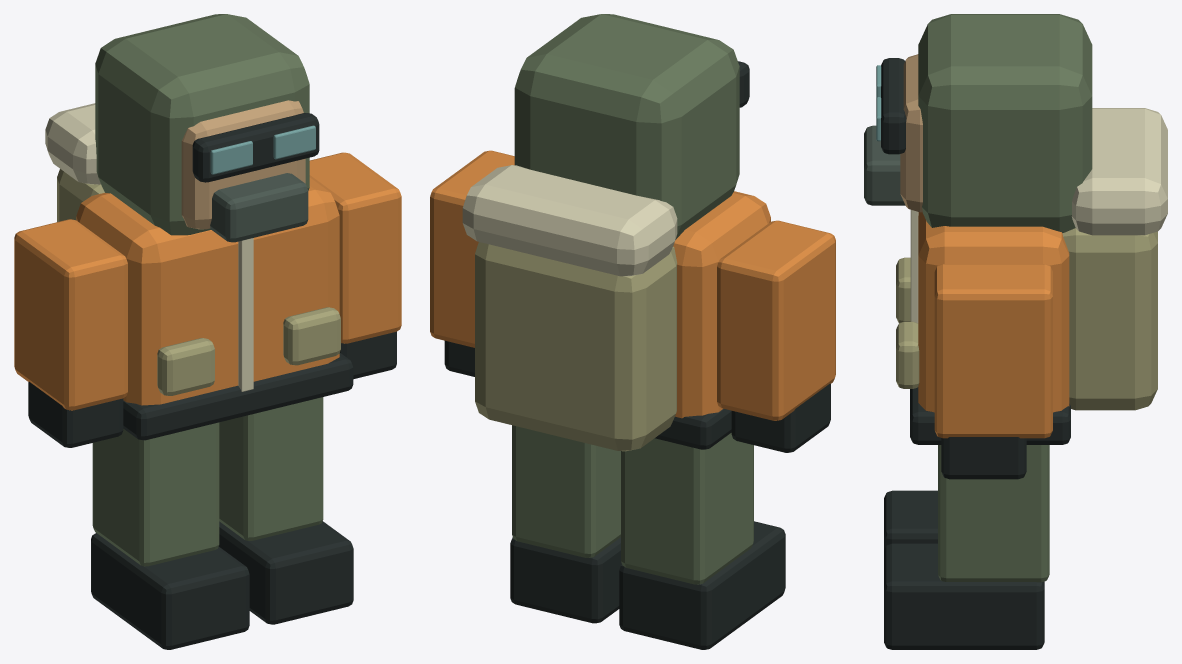
Rendered from survivor.glb.
3 views of the same model, side by side, from view 1: azimuth 30°, elevation 25°; view 2: azimuth 150°, elevation 25°; view 3: azimuth 270°, elevation 25° (orthographic). The views are drawn at different scales.
Visible parts, largest first — view 1: jacket, hood, sleeve_L, trouser_L, trouser_R, boot_L, sleeve_R, boot_R, belt, respirator, face, goggles (+9 smaller); view 2: hood, backpack, sleeve_L, trouser_L, bedroll, trouser_R, boot_L, jacket, sleeve_R, boot_R, glove_L, belt (+1 smaller); view 3: hood, sleeve_R, backpack, boot_R, trouser_R, jacket, bedroll, glove_R, boot_L, face, respirator, goggles (+4 smaller).
Part boxes in pixels (box(x1,y1,x2,y2)): jacket: box(76, 177, 339, 405); hood: box(95, 14, 309, 235); sleeve_L: box(14, 219, 127, 410); trouser_L: box(92, 422, 219, 566); trouser_R: box(219, 397, 323, 540); boot_L: box(91, 533, 249, 649); sleeve_R: box(309, 152, 401, 343); boot_R: box(218, 521, 353, 624); belt: box(123, 353, 353, 440); respirator: box(210, 173, 308, 242); face: box(181, 100, 305, 229); goggles: box(192, 113, 319, 182); hood: box(514, 14, 739, 239); backpack: box(475, 242, 677, 451); sleeve_L: box(717, 220, 835, 420); trouser_L: box(621, 433, 753, 584); bedroll: box(462, 165, 677, 276); trouser_R: box(512, 425, 620, 557); boot_L: box(619, 521, 785, 649); jacket: box(673, 191, 770, 418); sleeve_R: box(430, 150, 514, 347); boot_R: box(510, 537, 621, 623); glove_L: box(731, 383, 830, 452); belt: box(655, 408, 731, 449); hood: box(918, 14, 1092, 232); sleeve_R: box(934, 264, 1052, 438); backpack: box(1062, 228, 1157, 410); boot_R: box(884, 543, 1044, 649); trouser_R: box(938, 445, 1049, 582); jacket: box(918, 212, 1069, 412); bedroll: box(1071, 108, 1167, 235); glove_R: box(941, 437, 1026, 479); boot_L: box(884, 490, 937, 550); face: box(900, 54, 922, 212); respirator: box(864, 125, 905, 205); goggles: box(881, 58, 906, 154).
Size of the model in its own units: 1.23 by 1.9 by 0.925.
